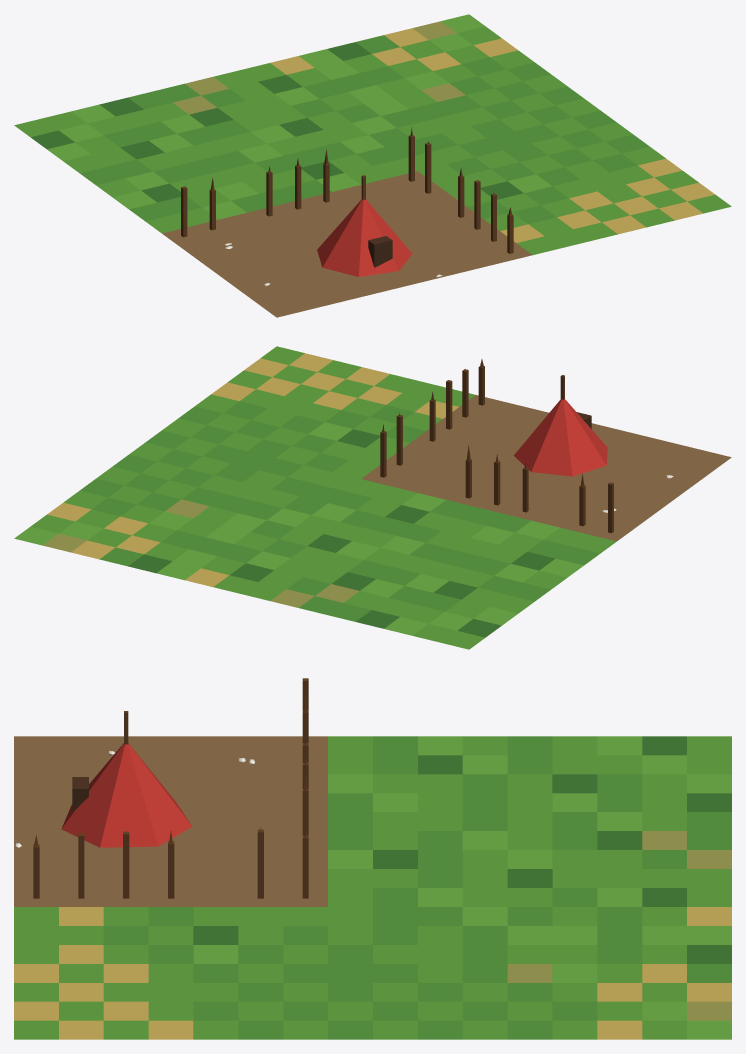
The model's file is chunk_7_7.glb.
3 renders of one model, top to bottom at view 1: azimuth 30°, elevation 25°; view 2: azimuth 150°, elevation 25°; view 3: azimuth 270°, elevation 25°, orthographic. The views are drawn at different scales.
Parts seen in each view (by area): view 1: chunk_7_7; view 2: chunk_7_7; view 3: chunk_7_7.
Boxes of the visible parts, box(x1,y1,x2,y2) form: chunk_7_7: box(14, 14, 731, 317); chunk_7_7: box(14, 346, 731, 649); chunk_7_7: box(14, 678, 731, 1039).
Size of the model in its own units: 16 by 2.75 by 16.
